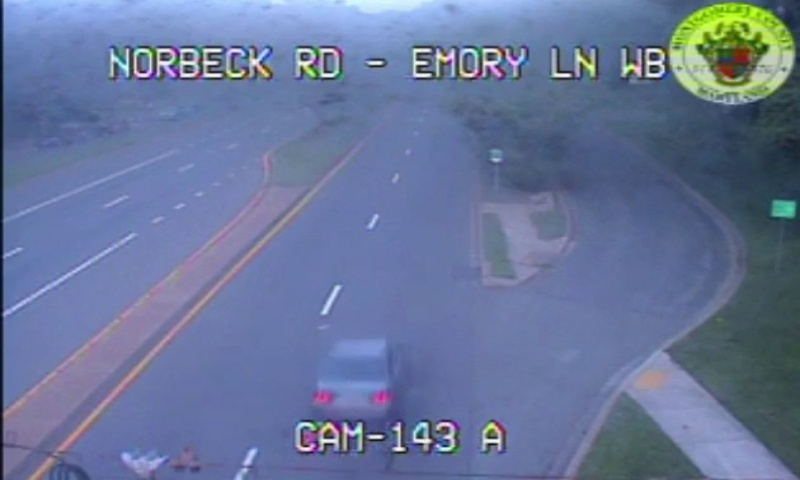car: (313, 340, 392, 422)
